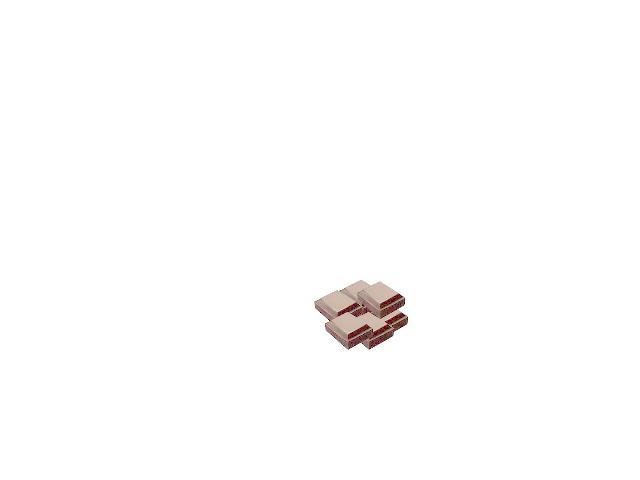chocolate: (315, 277, 410, 346)
